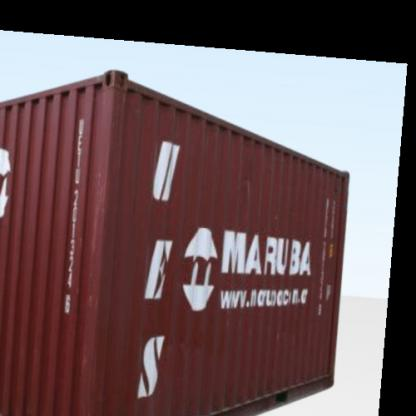Damage: (74, 149, 113, 265), (229, 160, 263, 212), (154, 326, 212, 352), (272, 320, 301, 345), (331, 176, 348, 212)
